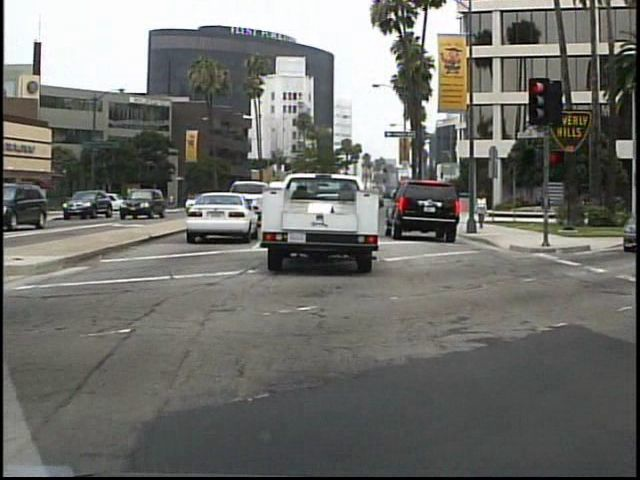person: (473, 188, 491, 235)
